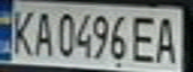0: (54, 9, 75, 58)
4: (72, 9, 93, 60)
6: (106, 11, 133, 62)
9: (90, 11, 112, 61)
A: (151, 12, 184, 65), (30, 7, 57, 57)
E: (127, 11, 163, 64)
K: (6, 6, 39, 57)
